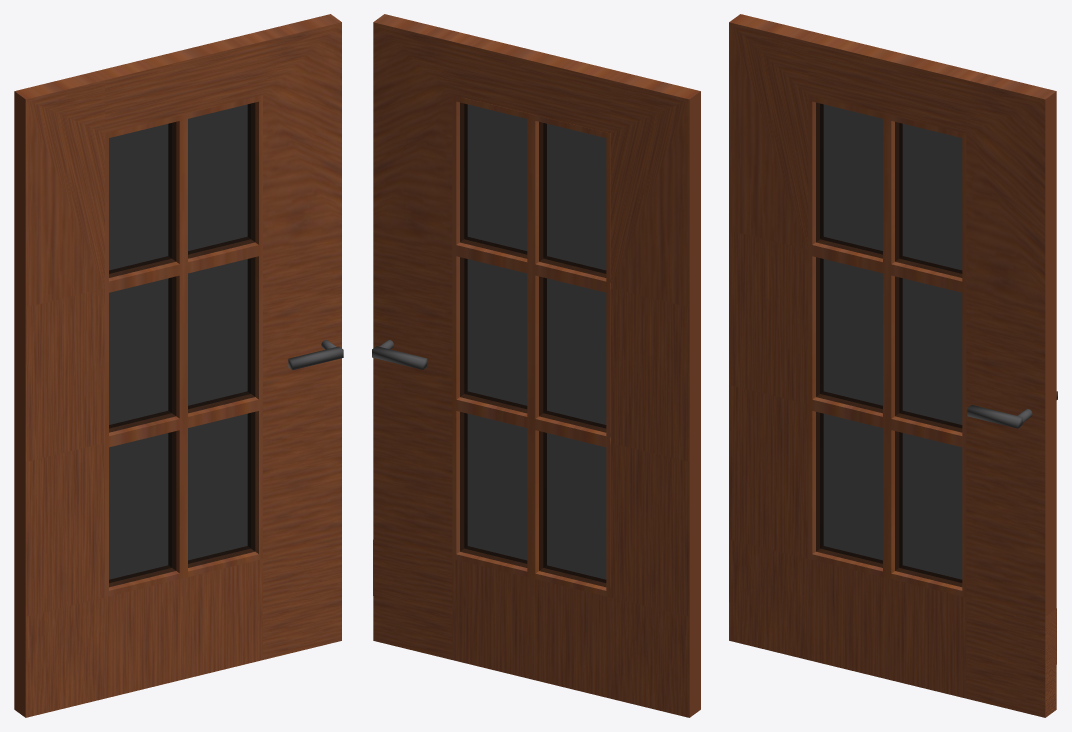
Rendered from Door_Glases.fbx.
The picture shows the model from 3 angles, left to right: view 1: azimuth 30°, elevation 25°; view 2: azimuth 150°, elevation 25°; view 3: azimuth 330°, elevation 25°; orthographic projection.
Visible parts, largest first — view 1: Tür.003, Türklinke 1.001; view 2: Tür.003, Türklinke 2.001; view 3: Tür.003, Türklinke 1.001.
Part boxes in pixels (bbox=[...]): Tür.003: bbox=[14, 14, 341, 717]; Türklinke 1.001: bbox=[288, 340, 343, 369]; Tür.003: bbox=[373, 14, 700, 717]; Türklinke 2.001: bbox=[372, 340, 427, 369]; Tür.003: bbox=[729, 14, 1056, 717]; Türklinke 1.001: bbox=[967, 405, 1032, 428].
Bounding box in the file's own units: 1.19 × 2.23 × 0.2598.
